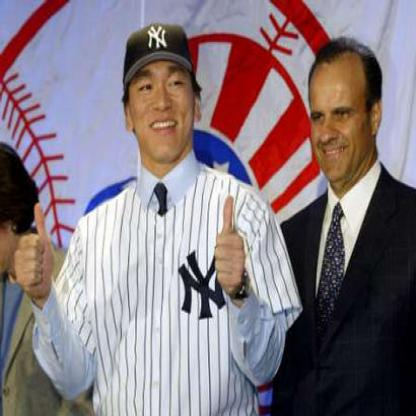face: (130, 25, 197, 166), (305, 52, 373, 185)
